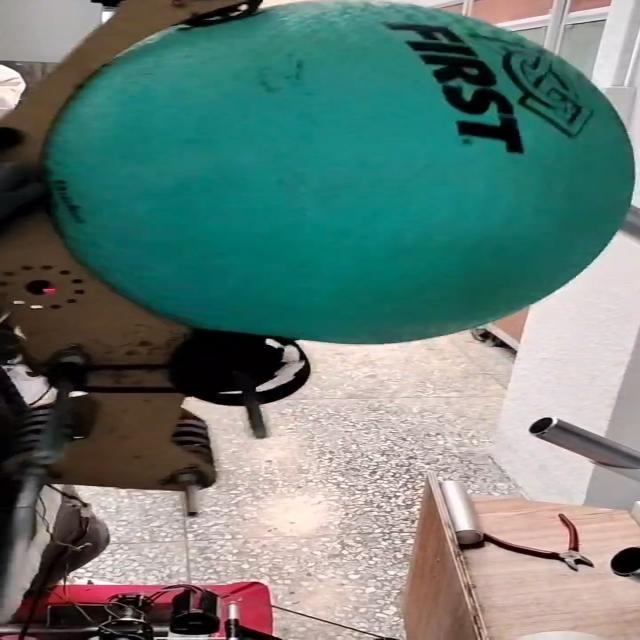ALGAE: (48, 0, 637, 348)
